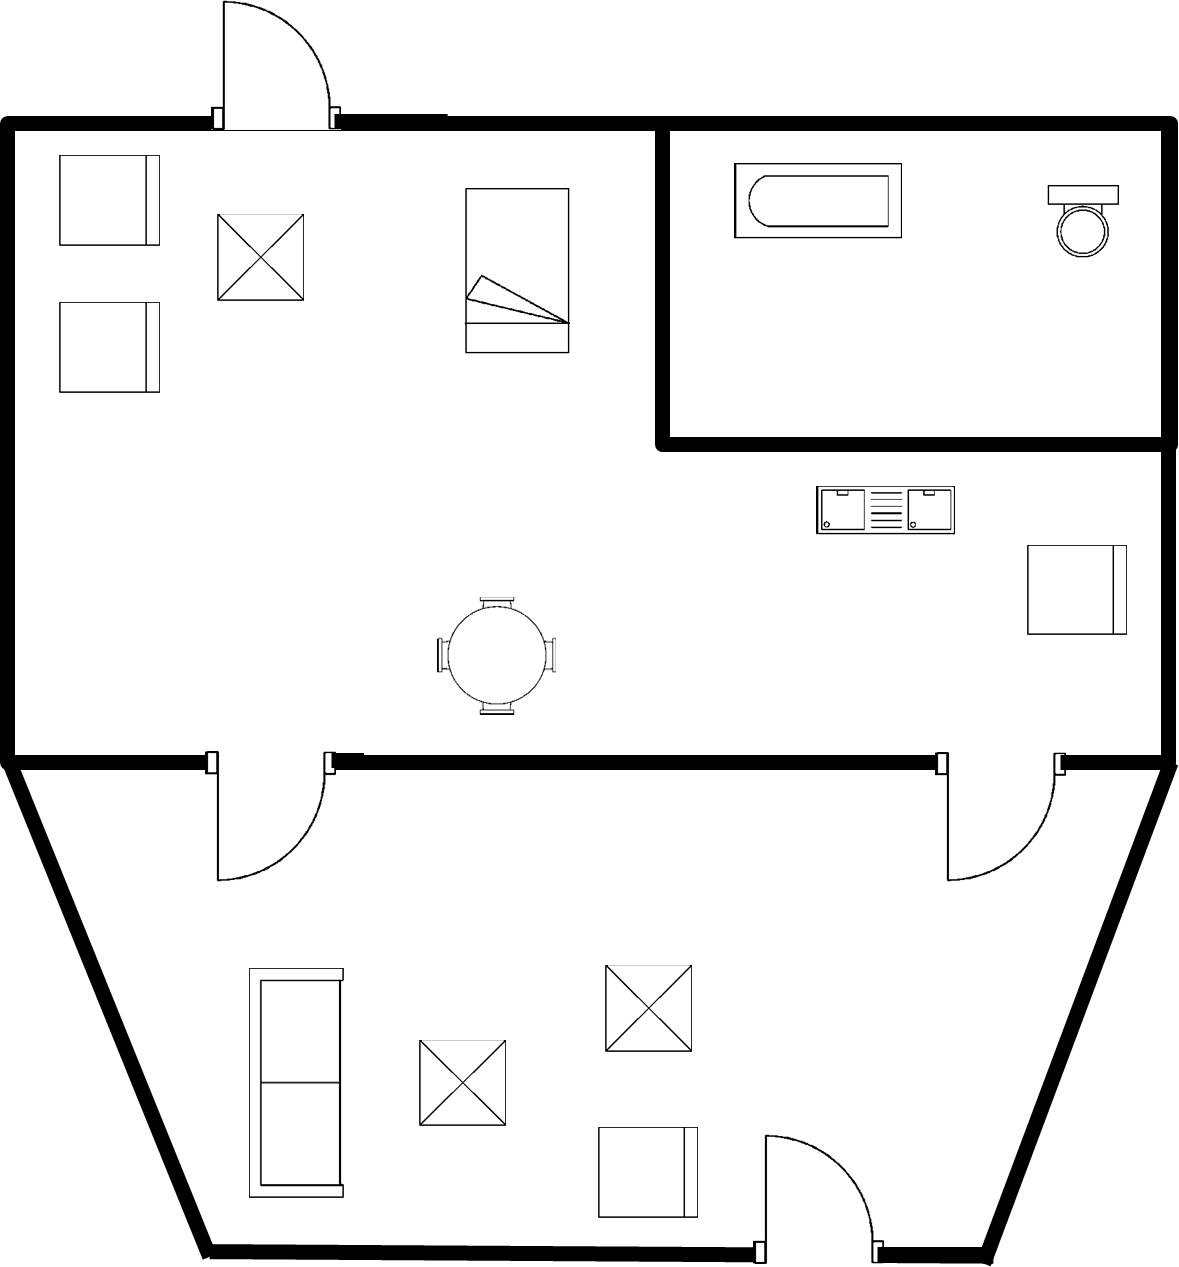bed: (457, 176, 579, 361)
coffee_table: (403, 1028, 518, 1139), (203, 205, 313, 312), (596, 959, 706, 1064)
large_sink: (1040, 176, 1127, 265)
large_sofa: (237, 960, 349, 1215)
round_table: (424, 589, 565, 726)
small_sofa: (589, 1119, 712, 1228), (1018, 534, 1136, 649), (49, 294, 169, 401), (50, 150, 170, 256)
tub: (722, 155, 913, 250)
twin_sink: (805, 479, 966, 548)
